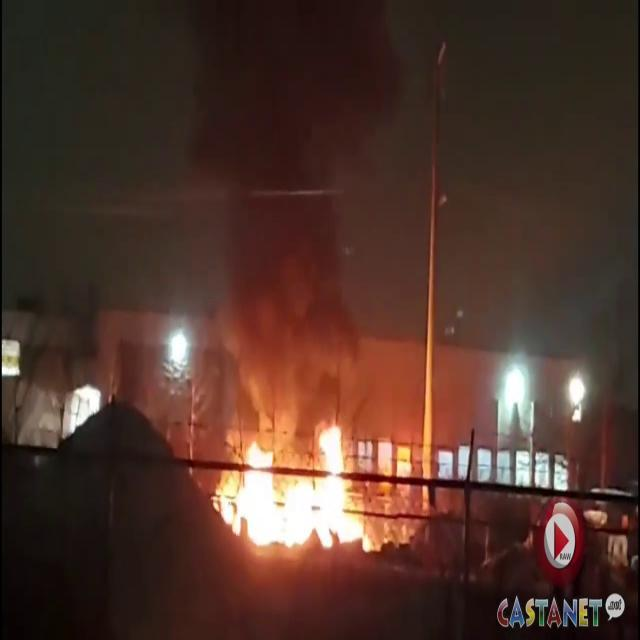Fire: (205, 418, 393, 560)
Smoke: (172, 0, 408, 435)
